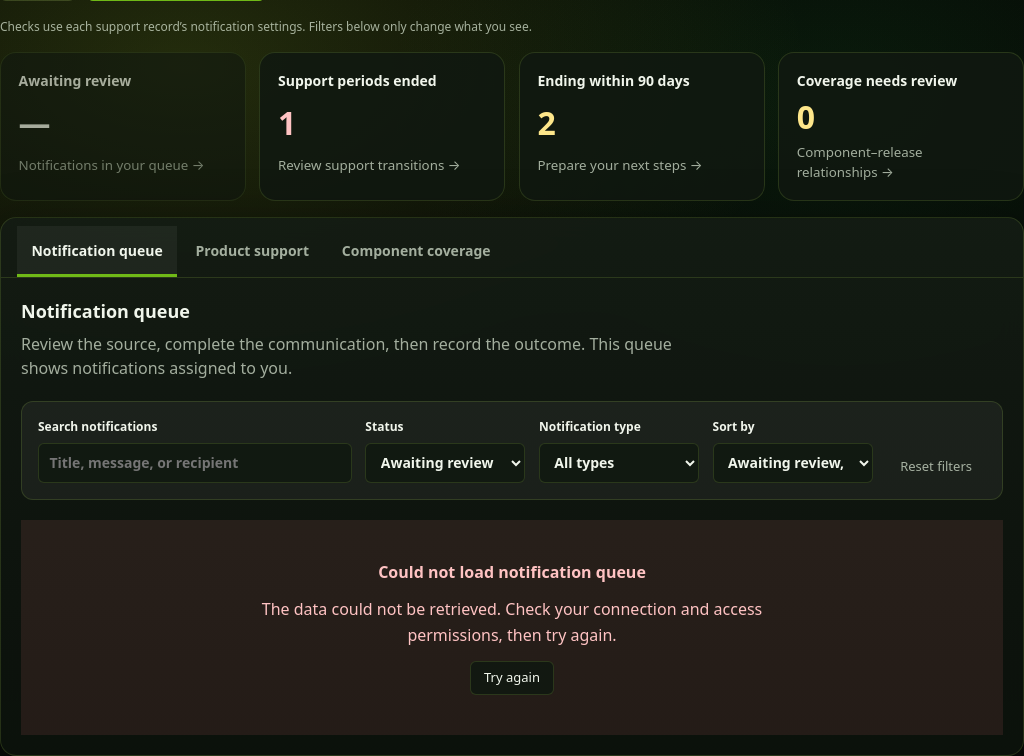
Scenario: Lifecycle alert workflow › keeps failed loads visible and allows retry without hiding other sections
(page scrolled)
Check: the message shows "Could not load notification queue", box [378,561,646,583]
Step 1. Click the button "Try again" → (512, 678), box [470,661,554,695]
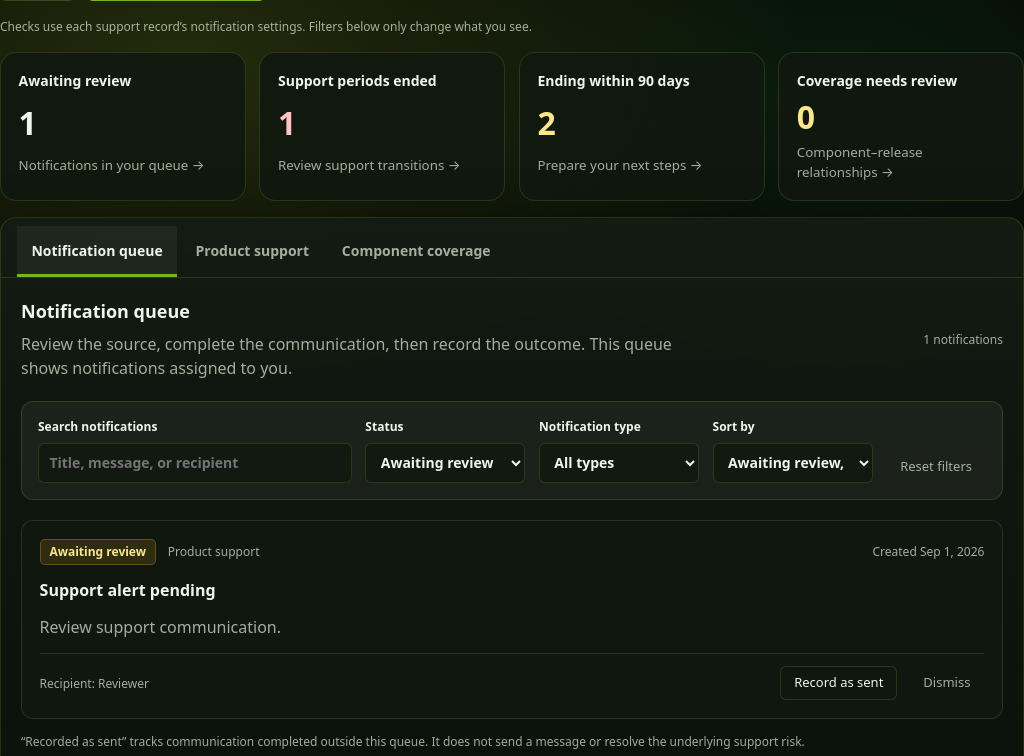
Check: the number of elements with class "alert-card" is 1, box [21,520,1003,719]
